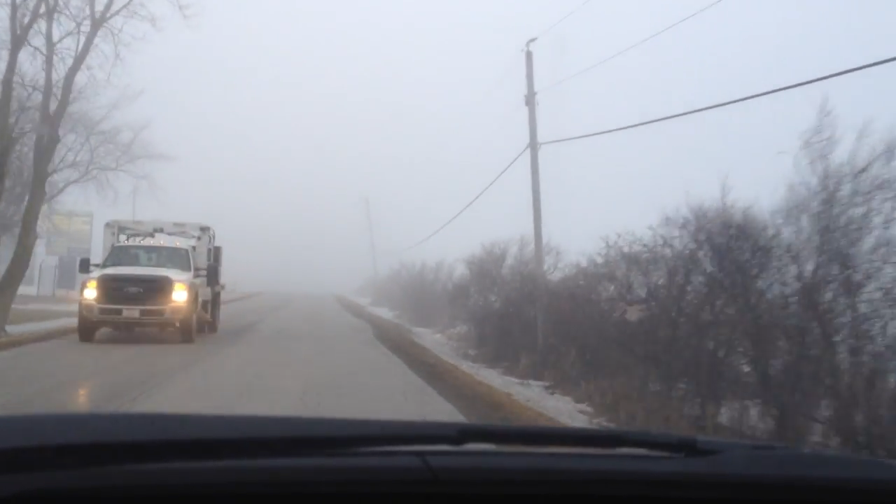bus: (74, 218, 227, 343)
